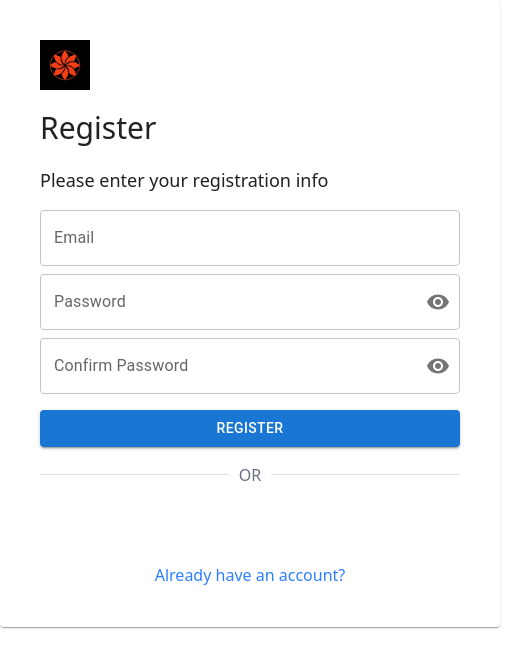
Test: SignUpPage - User Flows › Form Validation › shows error when passwords do not match
Type "user@example.com" into the field labelled "Email" at point(250, 238), box [40,210,460,266]
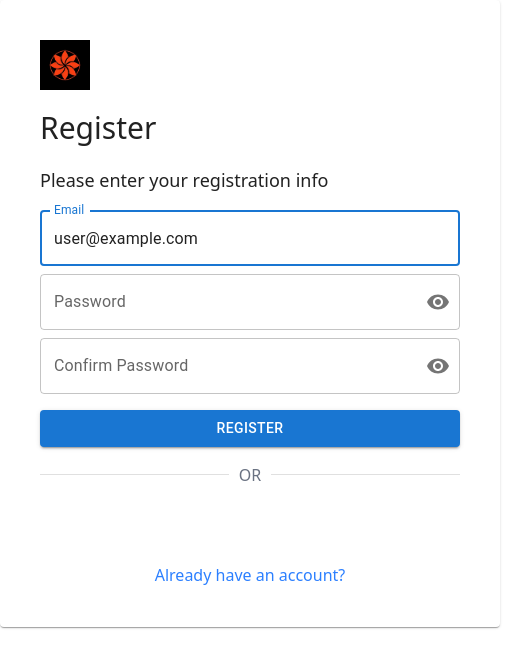
Type "password123" into the password field labelled "Password" at point(225, 302), box [40,274,410,330]
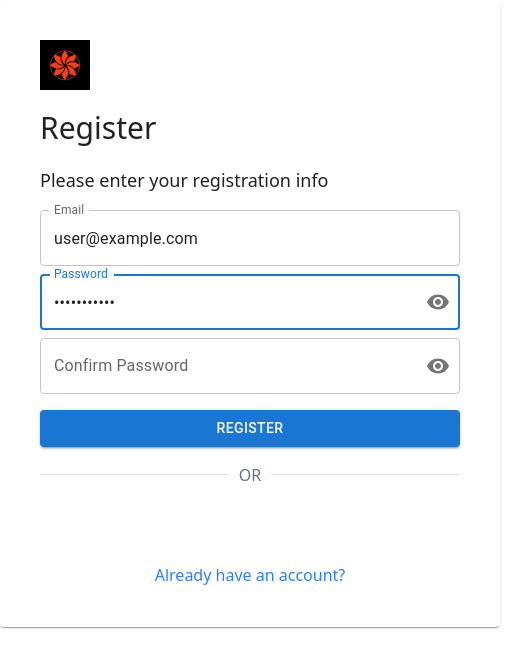
Type "differentpassword" into the password field labelled "Confirm Password" at point(225, 366), box [40,338,410,394]
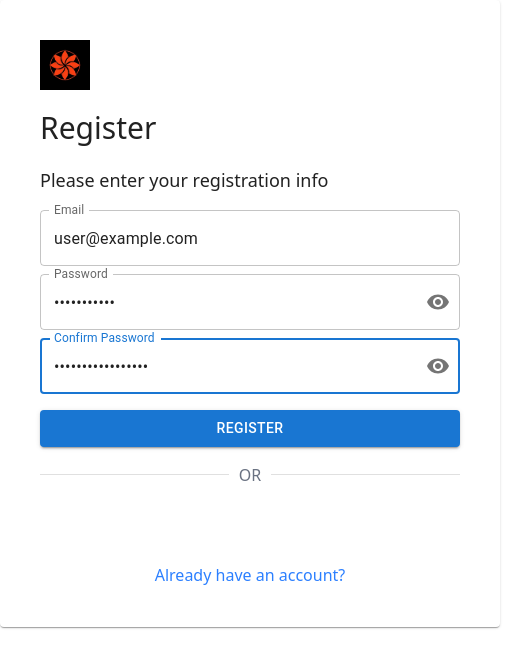
Click the button "Register" at point(250, 428), box [40,410,460,446]
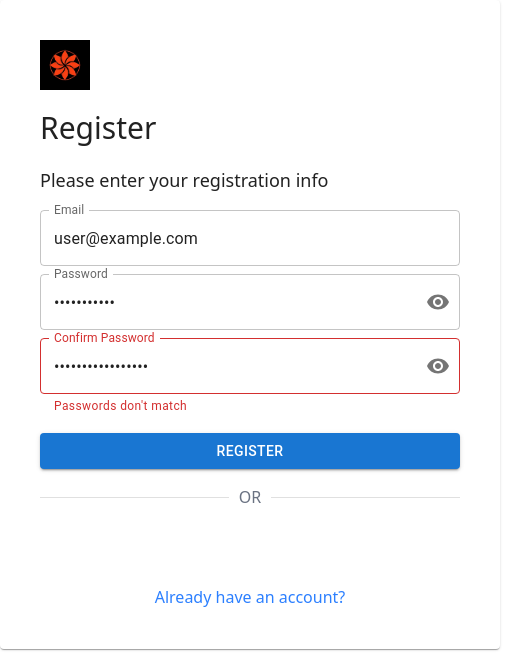
Now the text "Passwords don't match" is shown, box [54,399,187,413]
